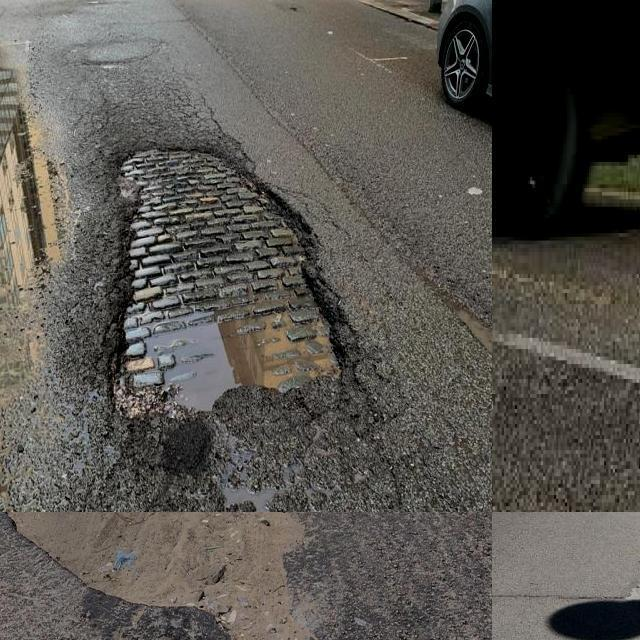Pothole: (110, 148, 360, 420), (4, 512, 65, 560)
